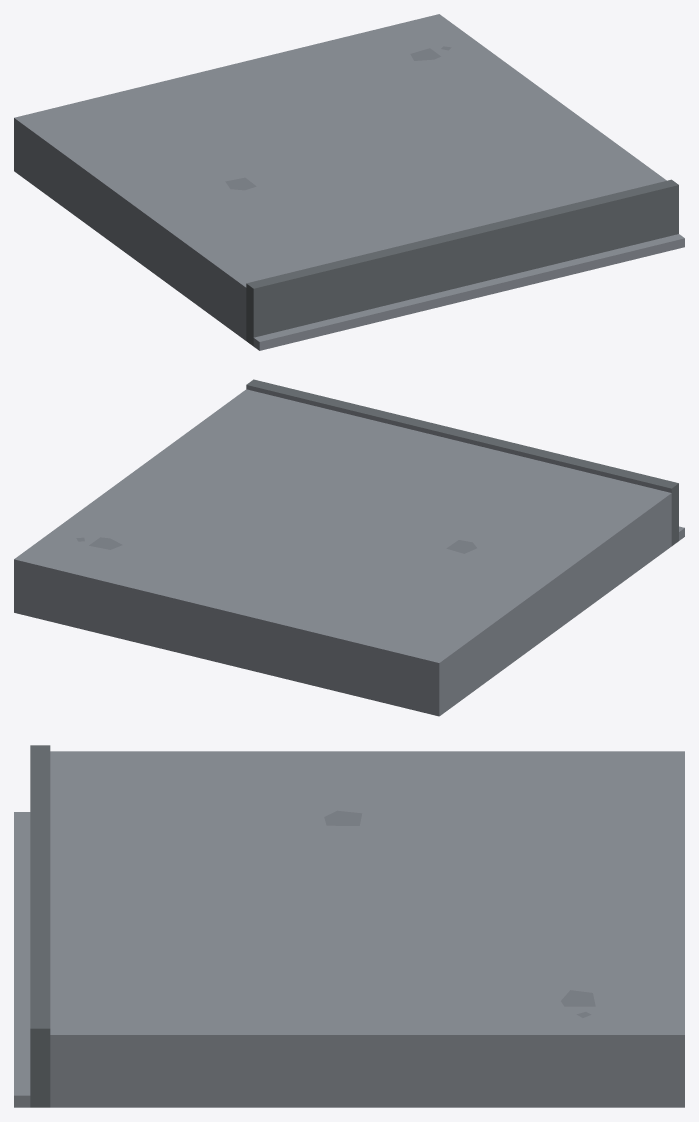
File: Floor_07.fbx
3 renders of one model, top to bottom at view 1: azimuth 30°, elevation 25°; view 2: azimuth 150°, elevation 25°; view 3: azimuth 270°, elevation 25°, orthographic. The views are drawn at different scales.
Visible parts, largest first — view 1: Floor_07_LOD0; view 2: Floor_07_LOD0; view 3: Floor_07_LOD0.
Part boxes in pixels (x1,y1,x2,y2): Floor_07_LOD0: (14, 14, 684, 350); Floor_07_LOD0: (14, 379, 684, 716); Floor_07_LOD0: (14, 745, 684, 1107).
Size of what is drawn, in the model's own units: 500 by 65 by 500.
